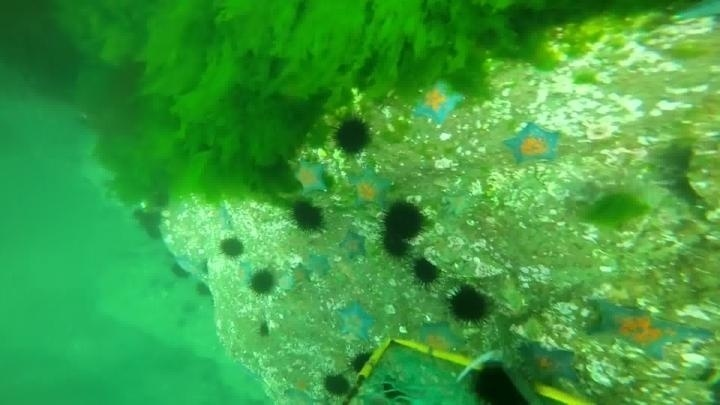echinus: (468, 362, 526, 404), (447, 283, 492, 326), (331, 114, 373, 157), (385, 201, 427, 237), (288, 199, 327, 234), (247, 267, 279, 298), (410, 256, 442, 287), (320, 371, 354, 400), (380, 230, 412, 260), (348, 350, 377, 378), (217, 234, 247, 261), (168, 258, 194, 282), (253, 321, 275, 344), (193, 280, 214, 300)
starfish: (585, 296, 710, 362), (517, 340, 579, 389), (503, 121, 564, 169), (411, 79, 466, 127), (410, 320, 470, 362), (345, 165, 394, 212), (333, 298, 378, 344), (290, 157, 331, 197), (337, 228, 369, 262), (282, 373, 318, 402), (301, 251, 334, 279), (288, 262, 314, 289), (236, 258, 260, 283)
